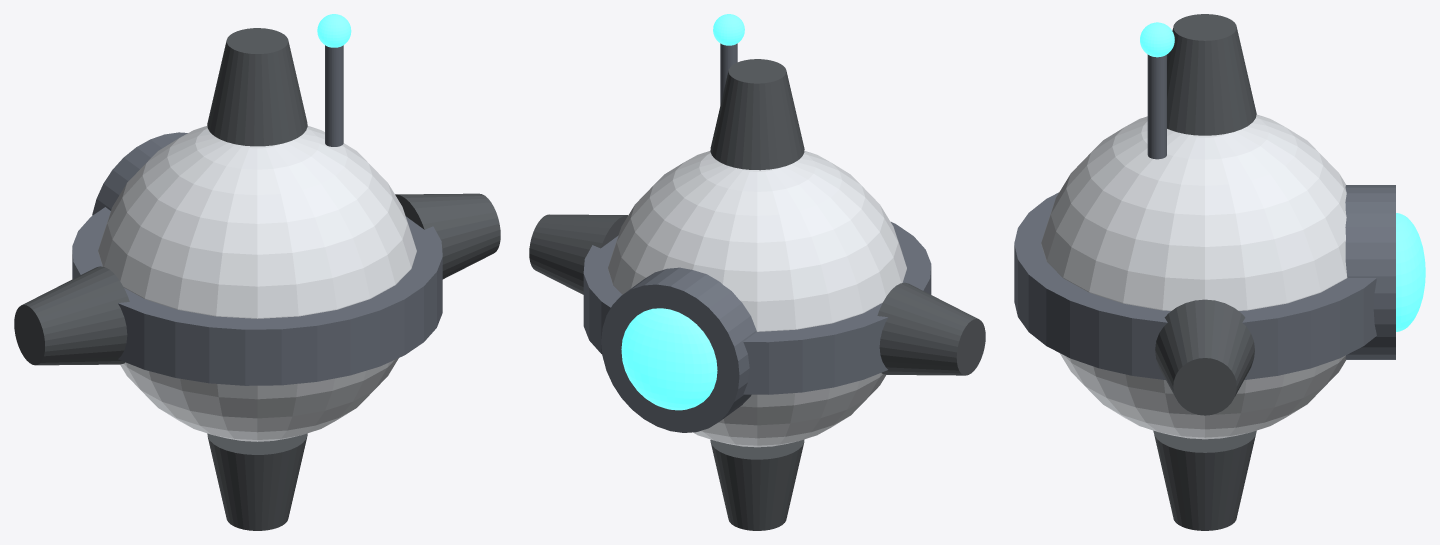
The model's file is patrol_drone.glb.
3 views of the same model, side by side, from view 1: azimuth 30°, elevation 25°; view 2: azimuth 150°, elevation 25°; view 3: azimuth 270°, elevation 25° (orthographic). The views are drawn at different scales.
Parts seen in each view (by area): view 1: patrol_drone; view 2: patrol_drone; view 3: patrol_drone.
Part boxes in pixels (box(x1,y1,x2,y2)): patrol_drone: box(14, 14, 500, 530); patrol_drone: box(529, 14, 985, 530); patrol_drone: box(1014, 14, 1425, 530).
Bounding box in the file's own units: 0.68 × 0.722 × 0.5175.
